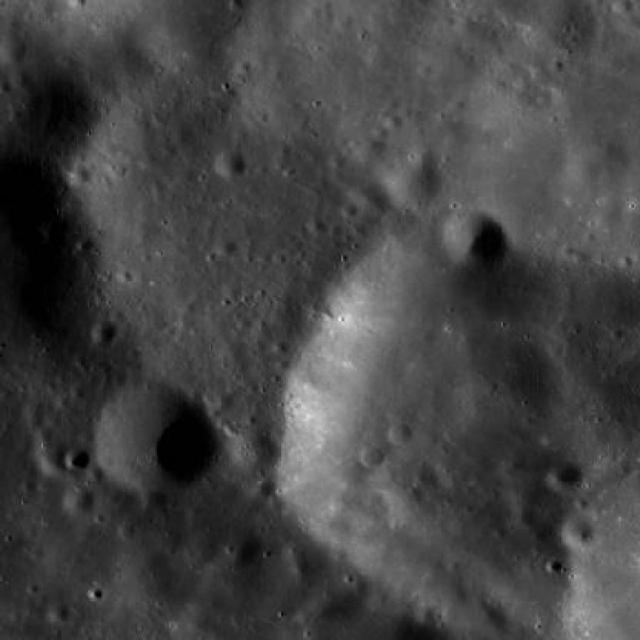crater: (93, 382, 219, 496), (0, 62, 95, 154), (174, 566, 260, 640), (118, 546, 198, 620), (41, 522, 116, 588), (528, 0, 602, 63), (374, 456, 440, 516), (442, 210, 506, 268), (386, 159, 444, 213), (310, 564, 368, 616), (229, 431, 282, 478), (346, 181, 391, 222), (466, 600, 512, 640), (36, 437, 79, 475), (224, 532, 264, 568), (548, 457, 586, 492), (562, 514, 600, 548), (568, 156, 602, 187), (186, 536, 220, 567), (0, 36, 31, 67), (212, 151, 245, 180), (354, 134, 386, 162), (64, 487, 95, 515), (92, 320, 120, 345), (141, 488, 167, 514), (501, 452, 527, 477), (68, 163, 94, 186), (46, 600, 71, 622), (388, 423, 412, 445), (360, 446, 383, 468), (413, 146, 436, 168), (218, 236, 240, 258), (66, 448, 89, 468), (253, 480, 276, 500), (512, 508, 534, 528), (334, 12, 356, 32), (292, 559, 310, 576), (384, 114, 402, 130), (310, 220, 327, 236), (273, 338, 290, 354), (76, 236, 93, 252), (612, 0, 631, 14), (340, 204, 358, 218), (0, 0, 2, 2)
